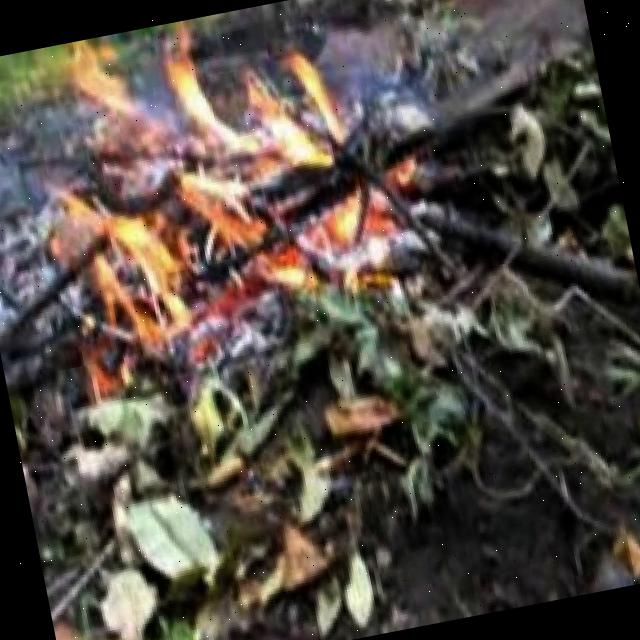fire: (3, 1, 419, 354)
